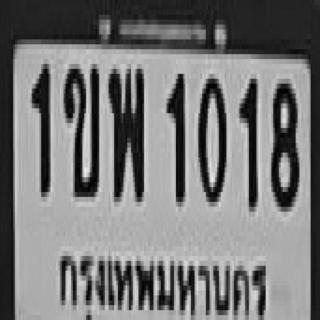A02: (62, 59, 97, 192)
A30: (107, 64, 142, 197)
N00: (197, 69, 224, 202)
N01: (30, 59, 49, 192), (165, 69, 183, 197), (238, 74, 254, 207)
N08: (270, 79, 298, 207)
P04: (53, 240, 272, 320)
